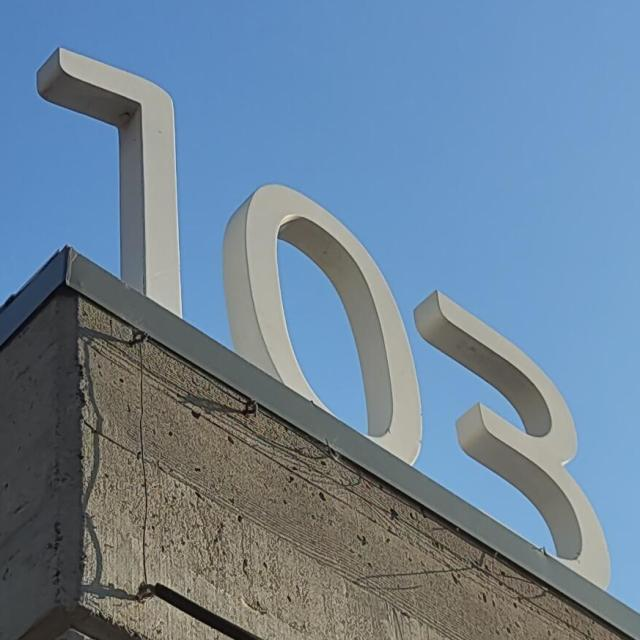character: (436, 286, 620, 600), (239, 180, 427, 476), (53, 41, 191, 328)
